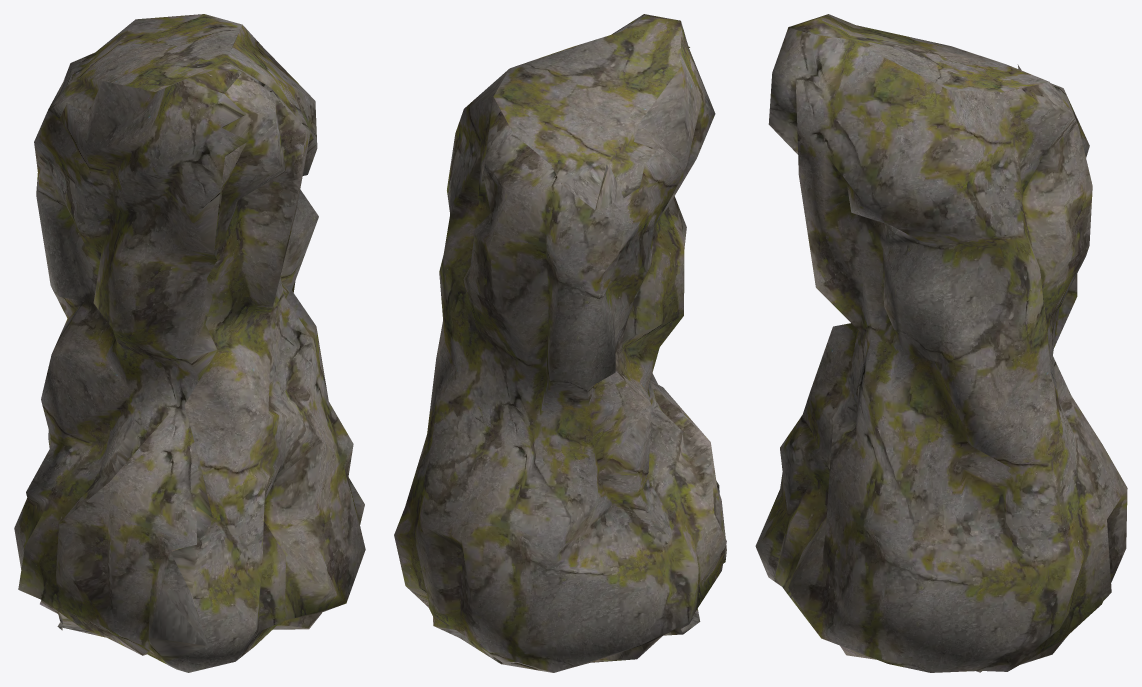
File: rock_scl_1_009.glb
The picture shows the model from 3 angles, left to right: view 1: azimuth 30°, elevation 25°; view 2: azimuth 150°, elevation 25°; view 3: azimuth 270°, elevation 25°; orthographic projection. The views are drawn at different scales.
Visible parts, largest first — view 1: rock scl 1.009; view 2: rock scl 1.009; view 3: rock scl 1.009.
Boxes of the visible parts, <box> form: rock scl 1.009: <box>14,14,365,672</box>; rock scl 1.009: <box>394,14,726,672</box>; rock scl 1.009: <box>755,14,1127,672</box>.
Bounding box in the file's own units: 6.01 × 11.54 × 6.63.
1 material, 1 textured.
